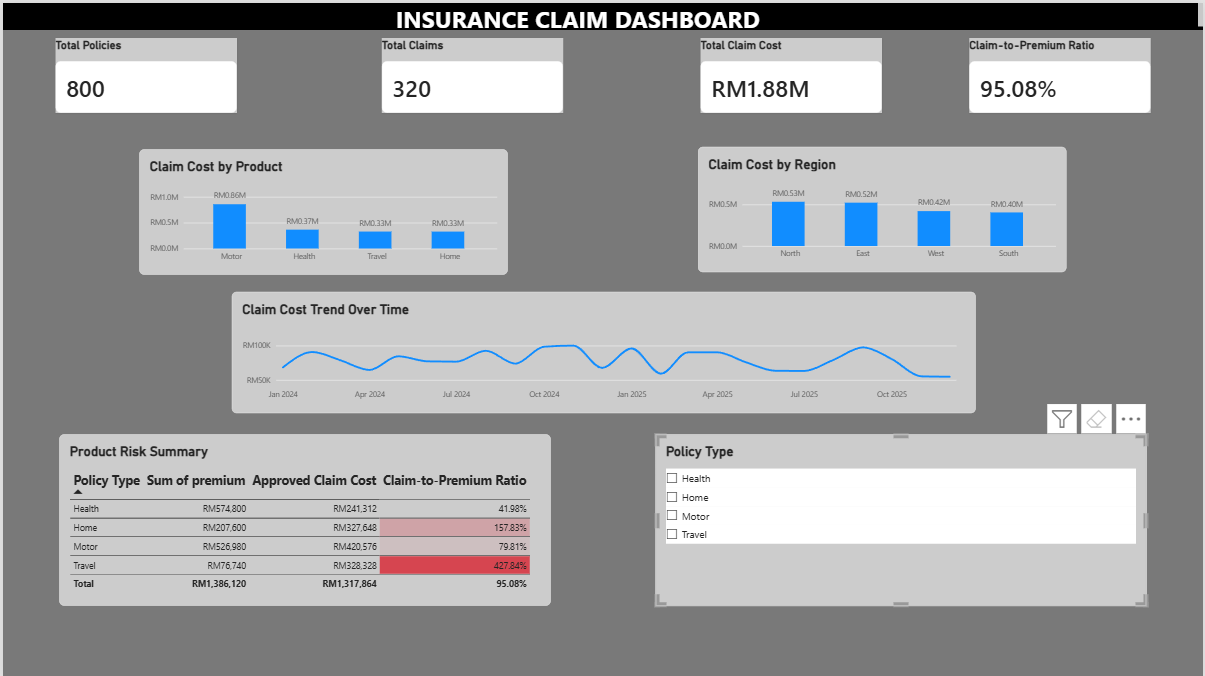

This screenshot's page, from the dashboard's own definition file:
{"tool":"powerbi","page":{"name":"Page 1","canvas":[1920,1080],"ordinal":0},"visuals":[{"type":"cardVisual","title":"Total Policies","fields":{"Data":["Count(POLICIES.policy_id)"]},"box":[83.6,56.9,290,120],"z":0},{"type":"lineChart","title":"Claim Cost Trend Over Time","fields":{"Category":["CLAIMS.claim_date.Variation.Date Hierarchy.Year","CLAIMS.claim_date.Variation.Date Hierarchy.Month"],"Y":["Sum(CLAIMS.claim_amount)"]},"box":[366,462,1190,194],"z":1000},{"type":"cardVisual","title":"Total Claims","fields":{"Data":["CountNonNull(CLAIMS.claim_id)"]},"box":[605.2,56.9,290,120],"z":2000},{"type":"textbox","box":[0,0,1919.6,43.1],"z":3000},{"type":"cardVisual","title":"Total Claim Cost","fields":{"Data":["Sum(CLAIMS.claim_amount)"]},"box":[1117,56.9,290,120],"z":4000},{"type":"cardVisual","title":"Claim-to-Premium Ratio","fields":{"Data":["CLAIMS.Claim-to-Premium Ratio"]},"box":[1546.4,56.9,290,120],"z":5000},{"type":"clusteredColumnChart","title":"Claim Cost by Product","fields":{"Category":["POLICIES.policy_type"],"Y":["Sum(CLAIMS.claim_amount)"]},"box":[218,233.4,589.9,200.6],"z":6000},{"type":"clusteredColumnChart","title":"Claim Cost by Region","fields":{"Category":["CUSTOMERS.region"],"Y":["Sum(CLAIMS.claim_amount)"]},"box":[1111.7,229,589.9,200.6],"z":7000},{"type":"tableEx","title":"Product Risk Summary","fields":{"Values":["POLICIES.policy_type","Sum(POLICIES.premium)","CLAIMS.Approved Claim Cost","CLAIMS.Claim-to-Premium Ratio"]},"box":[90.2,690.2,786.3,274.5],"z":8000},{"type":"listSlicer","title":"Policy Type","fields":{"Values":["POLICIES.policy_type"]},"box":[1043.1,690.2,786,274],"z":9000}]}

Visuals, with their boxes in screenshot pixels (x1, y1, x2, y2), scaled from the page's 1920x1080 canvas onto the 1205x676 screenshot:
"Total Policies" cardVisual: bbox=[52, 36, 234, 111]
"Claim Cost Trend Over Time" lineChart: bbox=[230, 289, 977, 411]
"Total Claims" cardVisual: bbox=[380, 36, 562, 111]
textbox: bbox=[0, 0, 1204, 27]
"Total Claim Cost" cardVisual: bbox=[701, 36, 883, 111]
"Claim-to-Premium Ratio" cardVisual: bbox=[971, 36, 1153, 111]
"Claim Cost by Product" clusteredColumnChart: bbox=[137, 146, 507, 272]
"Claim Cost by Region" clusteredColumnChart: bbox=[698, 143, 1068, 269]
"Product Risk Summary" tableEx: bbox=[57, 432, 550, 604]
"Policy Type" listSlicer: bbox=[655, 432, 1148, 604]
